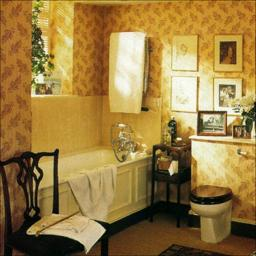Sanitario: (185, 179, 235, 246)
